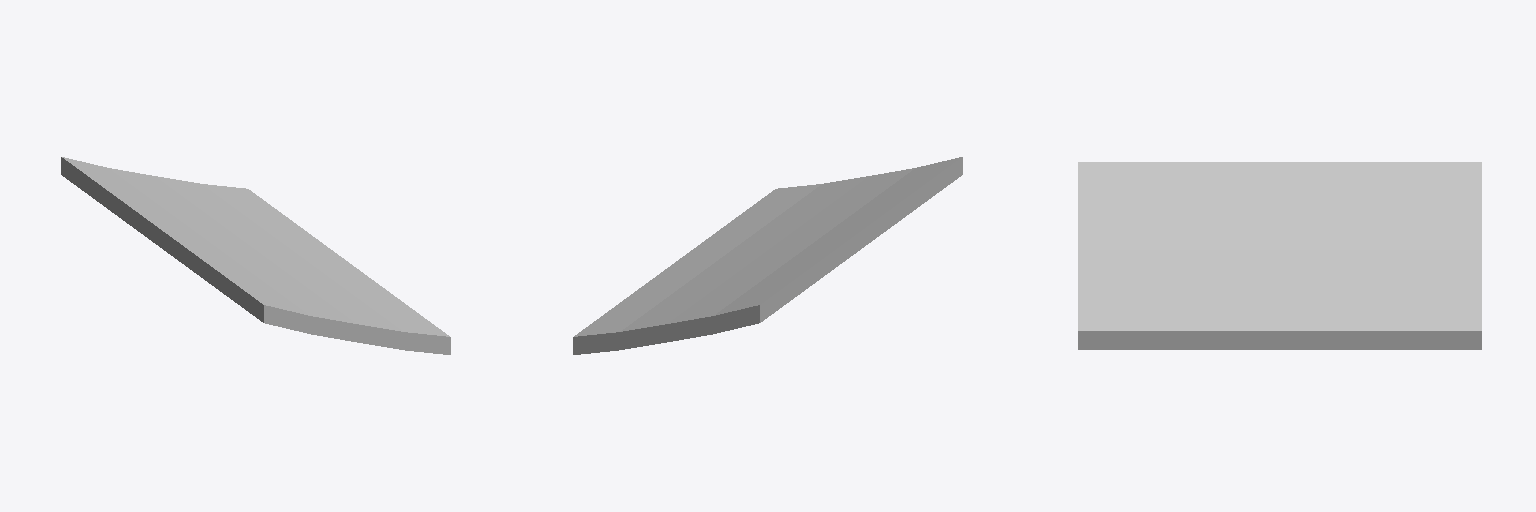
The model's file is house27.obj.
The picture shows the model from 3 angles: view 1: azimuth 30°, elevation 25°; view 2: azimuth 150°, elevation 25°; view 3: azimuth 270°, elevation 25°; orthographic projection.
Visible parts, largest first — view 1: 立方体.029; view 2: 立方体.029; view 3: 立方体.029.
Boxes of the visible parts, box(x1,y1,x2,y2) form: 立方体.029: box(61, 157, 450, 354); 立方体.029: box(573, 157, 962, 354); 立方体.029: box(1078, 162, 1481, 349).
Bounding box in the file's own units: 32 × 15.71 × 60.